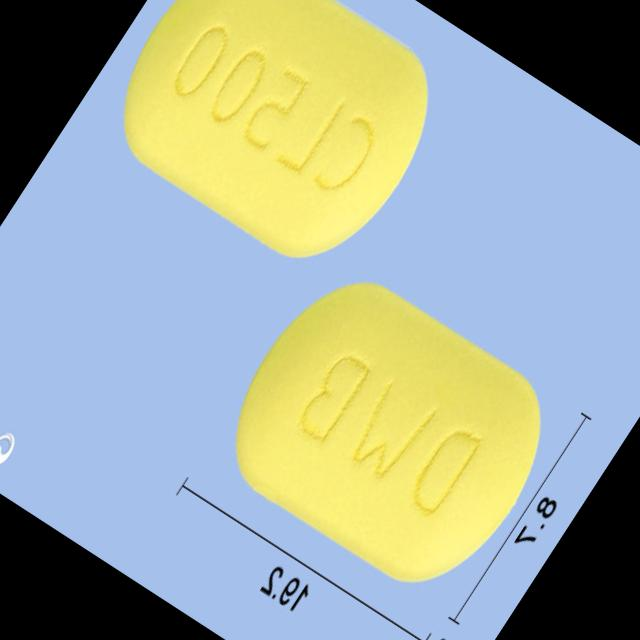Daewoong Bio Clarithromycin: (196, 246, 580, 617), (86, 0, 463, 287)
